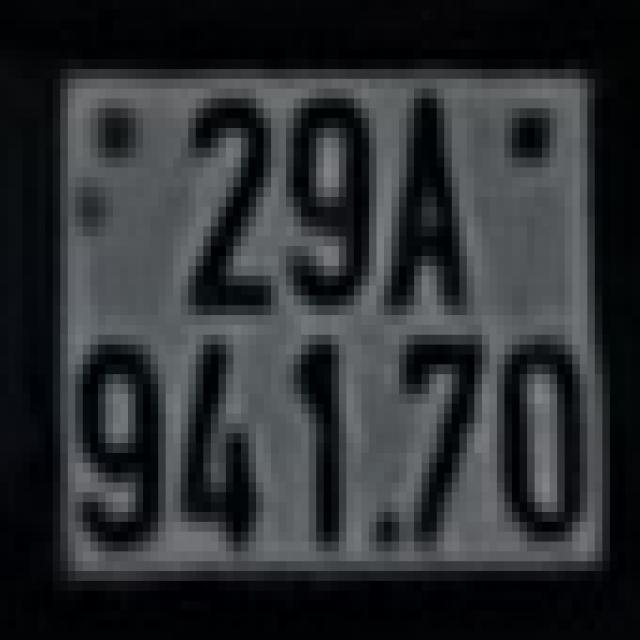0: (497, 334, 587, 542)
1: (294, 335, 354, 551)
2: (180, 89, 278, 315)
4: (180, 325, 264, 551)
7: (399, 334, 482, 542)
9: (286, 89, 377, 315), (75, 335, 166, 551)
A: (384, 79, 474, 315)
